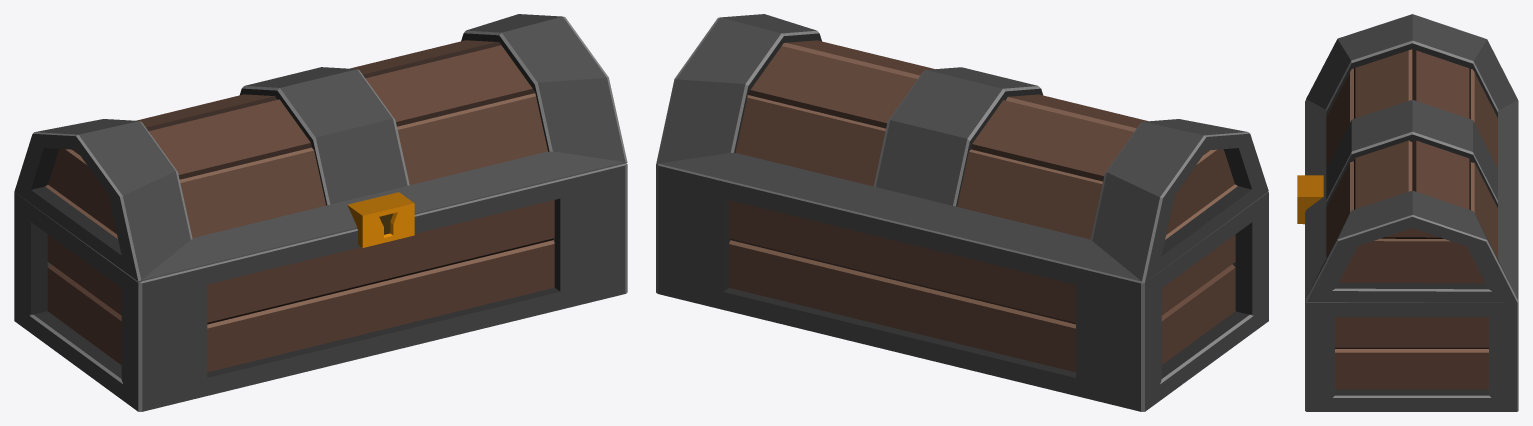
The model's file is richesse-2.glb.
3 views of the same model, side by side, from view 1: azimuth 30°, elevation 25°; view 2: azimuth 150°, elevation 25°; view 3: azimuth 270°, elevation 25° (orthographic). The views are drawn at different scales.
Parts seen in each view (by area): view 1: OpenChestTop_01, OpenChest_01; view 2: OpenChestTop_01, OpenChest_01; view 3: OpenChestTop_01, OpenChest_01.
Part boxes in pixels (bbox=[...]): OpenChestTop_01: bbox=[14, 14, 627, 281]; OpenChest_01: bbox=[14, 163, 627, 411]; OpenChestTop_01: bbox=[656, 14, 1268, 282]; OpenChest_01: bbox=[656, 163, 1268, 411]; OpenChestTop_01: bbox=[1297, 14, 1517, 302]; OpenChest_01: bbox=[1305, 100, 1518, 411].
Size of what is drawn, in the model's own units: 1.47 by 0.6631 by 0.6792.
1 material, 1 textured.
